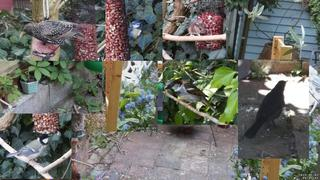blackbird: (244, 80, 289, 139)
blue tit: (125, 20, 142, 45)
great tit: (5, 134, 52, 168)
mouse: (176, 20, 206, 42)
sparrow: (164, 80, 218, 114)
starling: (20, 20, 86, 45)
